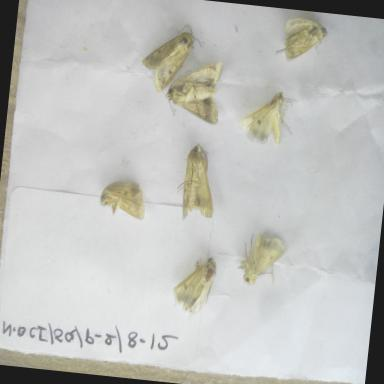abw: (136, 16, 210, 102), (156, 48, 230, 128), (168, 135, 226, 228), (234, 84, 304, 155), (232, 223, 292, 293), (166, 248, 222, 322), (270, 12, 334, 70), (94, 172, 154, 226)
